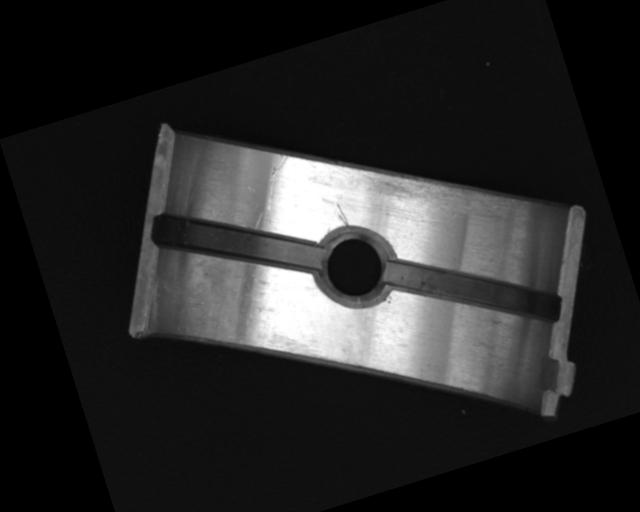gap: (381, 215, 566, 364), (149, 175, 323, 310)
hole: (307, 220, 401, 315)
nick: (252, 153, 301, 212), (334, 201, 349, 226)
scratch: (364, 130, 524, 254)
